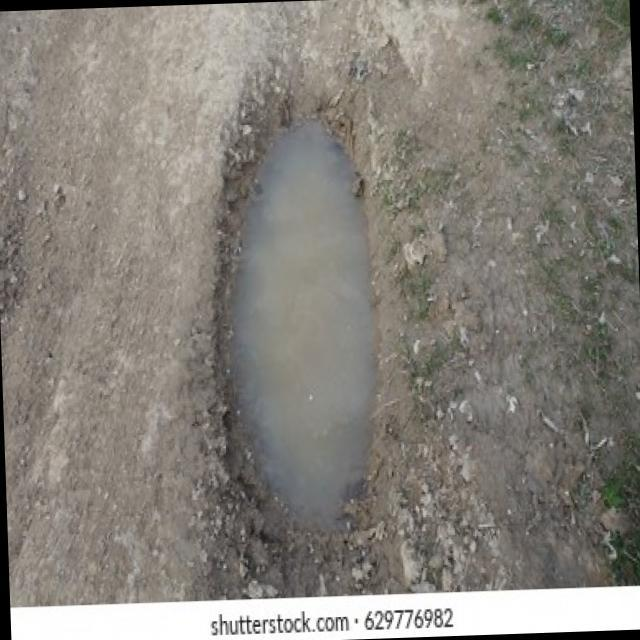Pothole: (192, 62, 407, 544)
